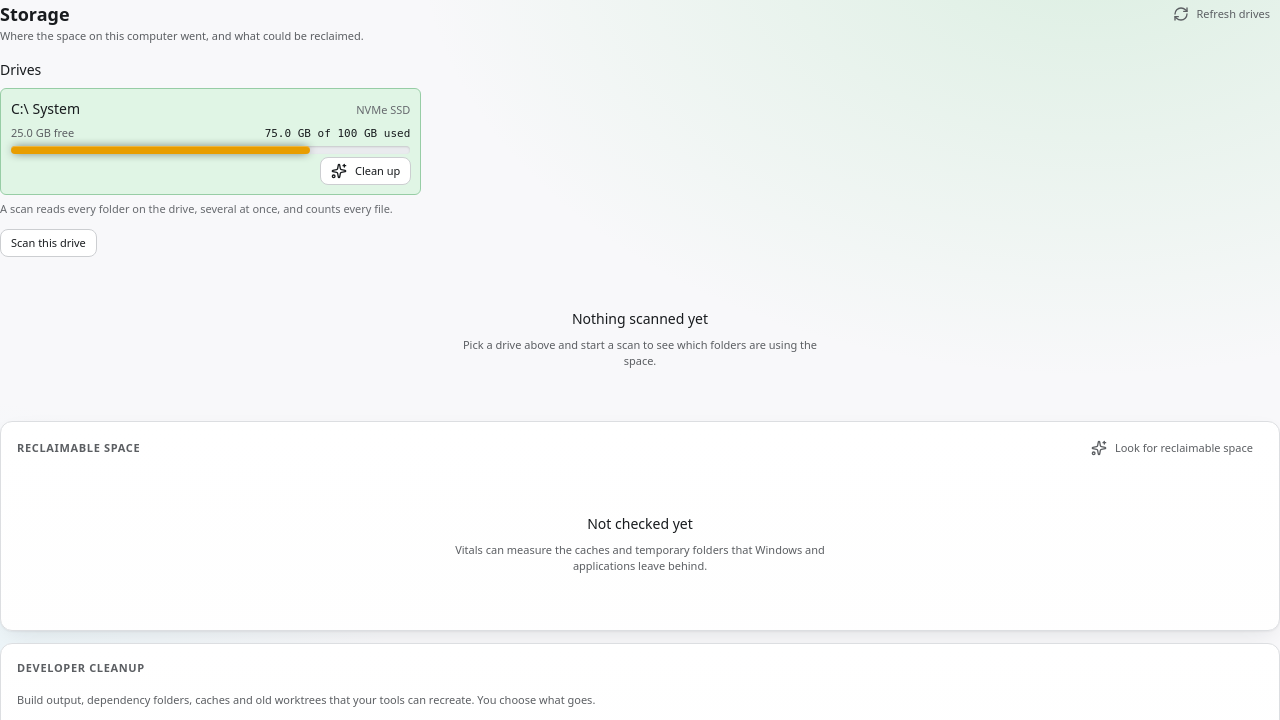
Test: StorageScreen › exploring a finished scan › goes into a folder and back up through the breadcrumb
Expected: the heading "Storage" is shown, [0, 2, 70, 26]
Click the button "Scan this drive": x=48, y=243 [0, 229, 97, 257]
(page scrolled)
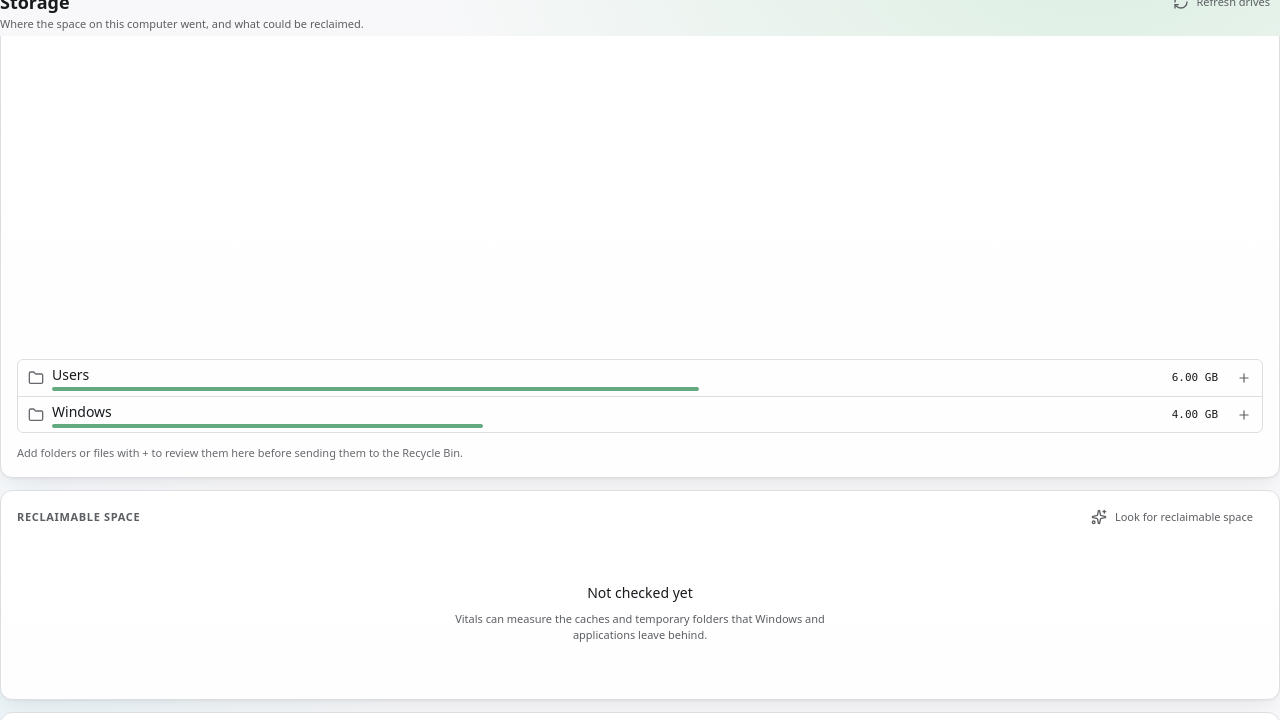
Click the button with aria-label "Open Users": x=71, y=374 [18, 360, 1228, 396]
(page scrolled)
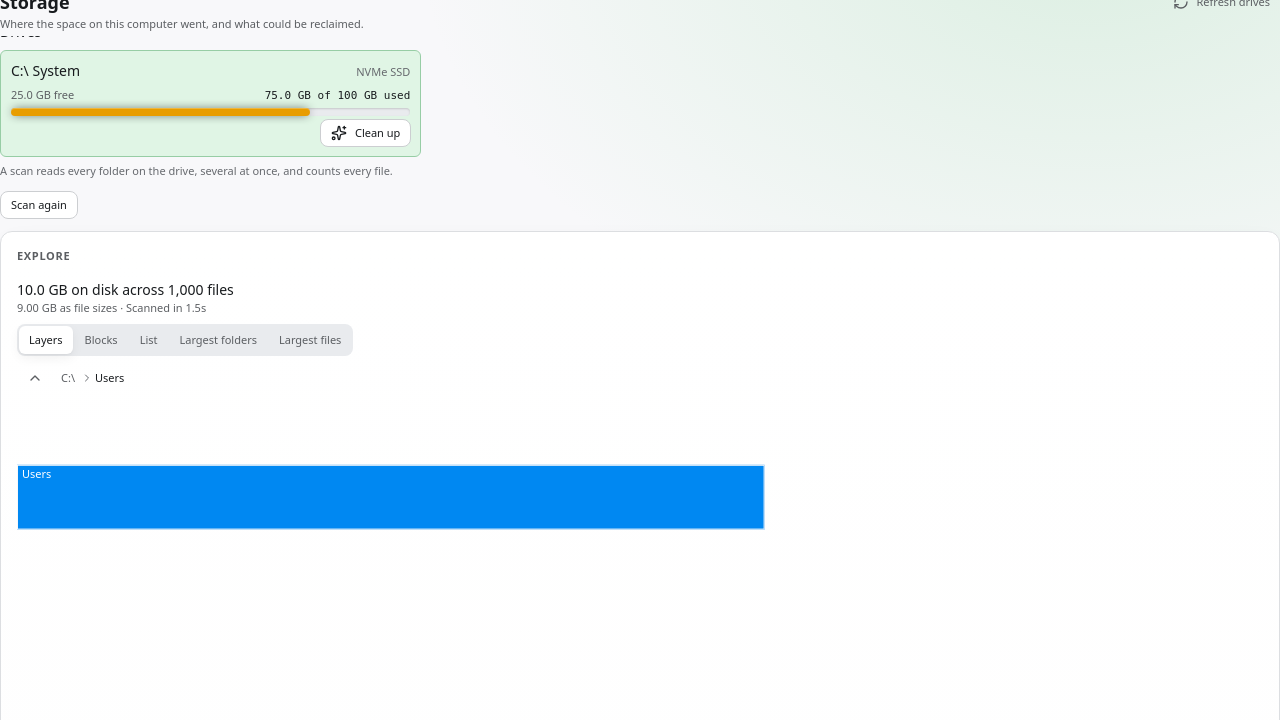
Expected: the text "Users" is shown, [95, 370, 124, 386]
Click the button named "Up one level": x=35, y=378 [17, 364, 53, 392]
(page scrolled)
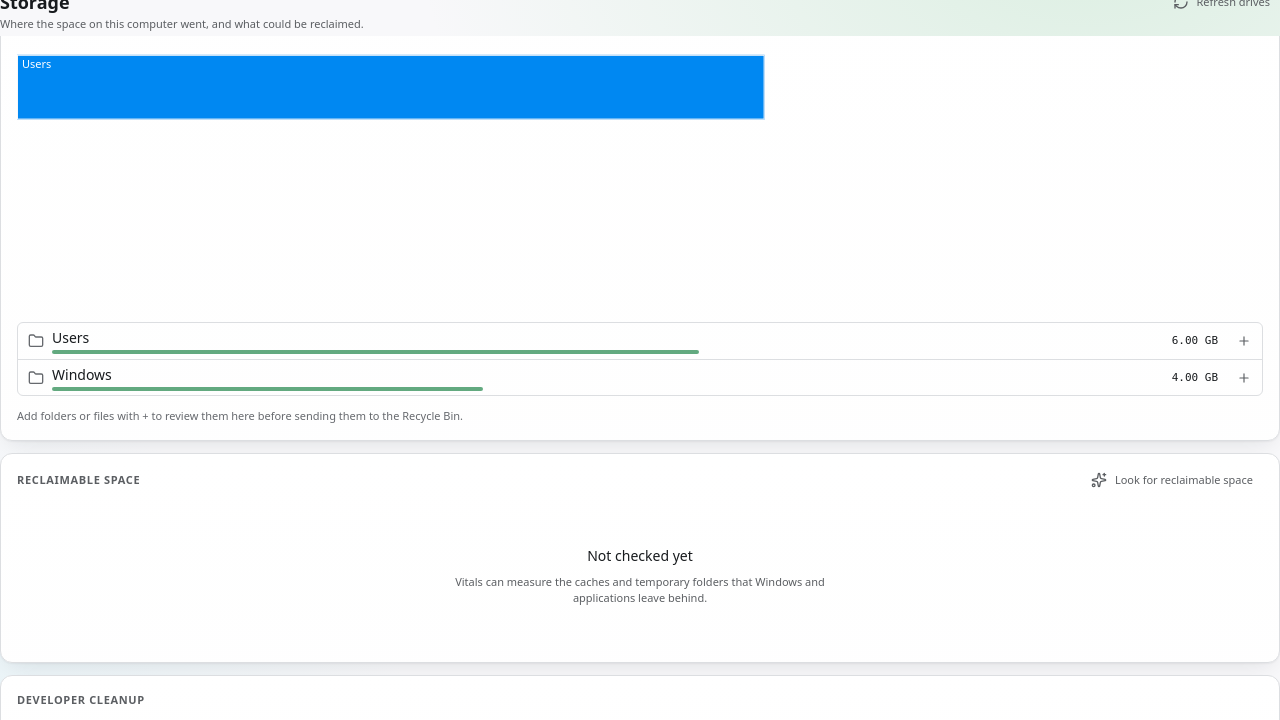
Expected: the button with aria-label "Open Windows" is shown, [18, 360, 1228, 395]
